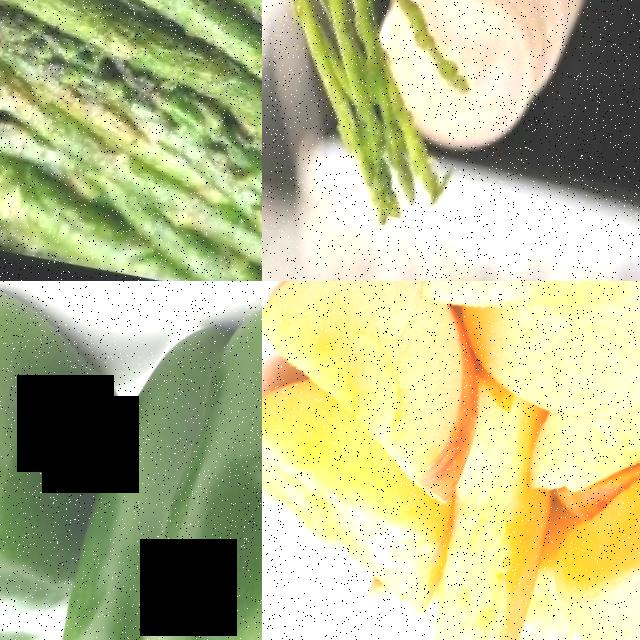apple: (262, 281, 516, 510), (262, 430, 466, 637), (433, 281, 640, 470), (525, 402, 640, 640), (412, 473, 568, 640), (513, 405, 640, 546), (417, 281, 640, 361)
asparagus: (262, 0, 532, 256)
bell pepper: (20, 292, 262, 640), (0, 302, 136, 640)
